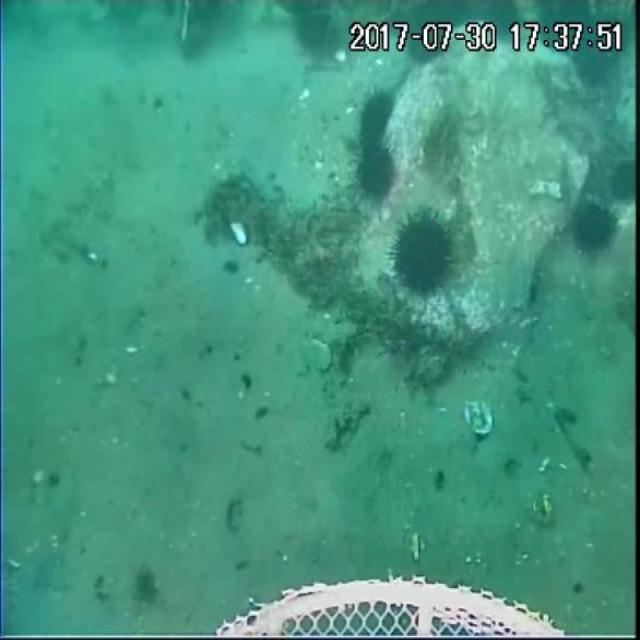echinus: (391, 212, 453, 293), (566, 195, 617, 253), (354, 147, 400, 208), (356, 92, 394, 149), (294, 10, 338, 54), (610, 155, 640, 205)
